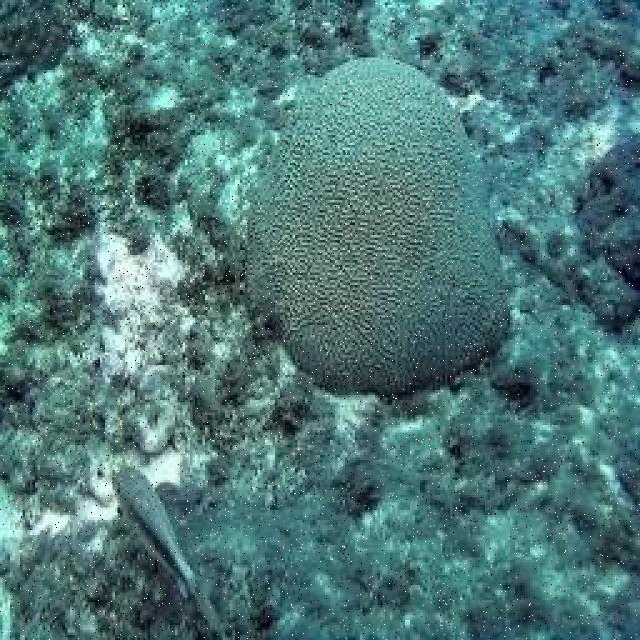fish: (112, 465, 226, 637)
reefs: (247, 56, 511, 396)
